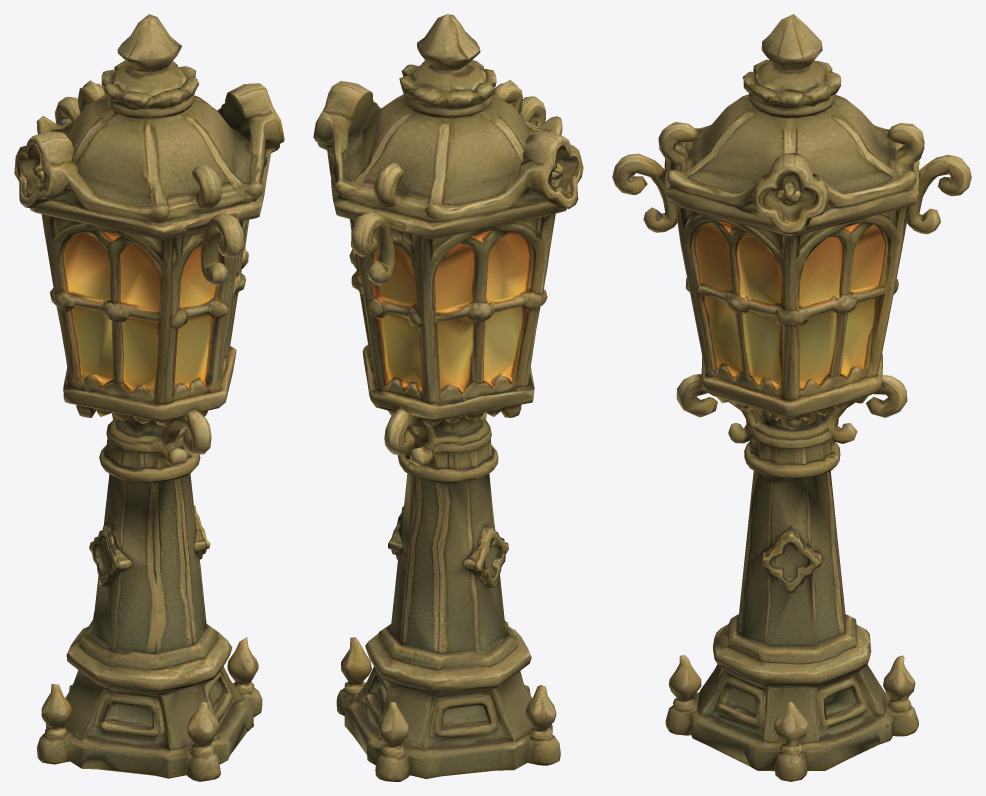
File: lantern.glb
The picture shows the model from 3 angles, left to right: view 1: azimuth 30°, elevation 25°; view 2: azimuth 150°, elevation 25°; view 3: azimuth 270°, elevation 25°; orthographic projection.
Parts seen in each view (by area): view 1: tripo_node_27ff1dac-60cf-42d4-8557-1aff8f22a7cc; view 2: tripo_node_27ff1dac-60cf-42d4-8557-1aff8f22a7cc; view 3: tripo_node_27ff1dac-60cf-42d4-8557-1aff8f22a7cc.
Boxes of the visible parts, x1,y1,x2,y2 form: tripo_node_27ff1dac-60cf-42d4-8557-1aff8f22a7cc: (14, 14, 284, 781); tripo_node_27ff1dac-60cf-42d4-8557-1aff8f22a7cc: (313, 14, 583, 781); tripo_node_27ff1dac-60cf-42d4-8557-1aff8f22a7cc: (612, 14, 971, 781).
Bounding box in the file's own units: 0.4372 × 1.2 × 0.5464.
1 material, 1 textured.
